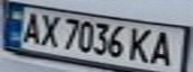0: (75, 19, 96, 54)
3: (90, 20, 112, 56)
6: (106, 22, 130, 60)
7: (57, 16, 81, 52)
A: (148, 28, 178, 69), (15, 9, 45, 45)
K: (124, 25, 157, 64)
X: (36, 11, 63, 47)
